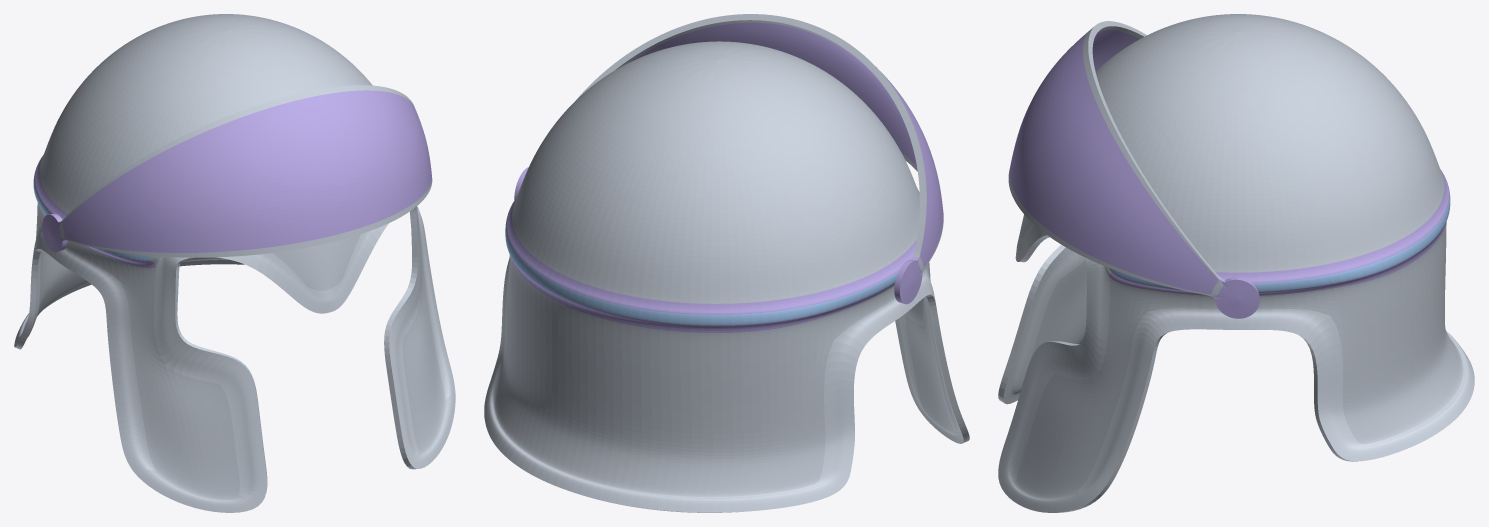
Rendered from Helmet_2.0.fbx.
The picture shows the model from 3 angles, left to right: view 1: azimuth 30°, elevation 25°; view 2: azimuth 150°, elevation 25°; view 3: azimuth 270°, elevation 25°; orthographic projection. The views are drawn at different scales.
Visible parts, largest first — view 1: Sphere; view 2: Sphere; view 3: Sphere.
Part boxes in pixels (x1,y1,x2,y2): Sphere: (14, 14, 455, 512); Sphere: (484, 14, 969, 512); Sphere: (998, 14, 1474, 512).
Bounding box in the file's own units: 204 × 213 × 219.
